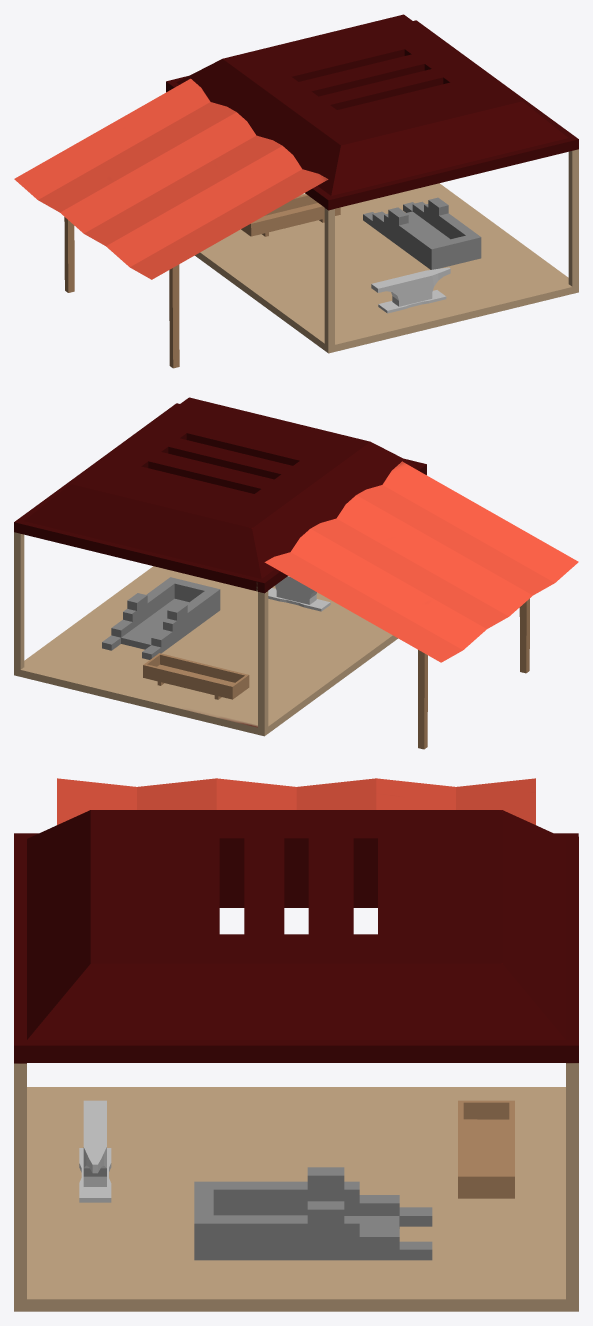
The model's file is blacksmith.fbx.
The picture shows the model from 3 angles, top to bottom: view 1: azimuth 30°, elevation 25°; view 2: azimuth 150°, elevation 25°; view 3: azimuth 270°, elevation 25°; orthographic projection. The views are drawn at different scales.
Visible parts, largest first — view 1: Cube, Plane, Forge, Anvil, Cube.003, heattreat; view 2: Cube, Plane, Forge, heattreat, Cube.003, Anvil; view 3: Cube, Forge, Plane, heattreat, Anvil.
Boxes of the visible parts, bbox=[...] form: Cube: bbox=[166, 14, 578, 353]; Plane: bbox=[14, 78, 328, 279]; Forge: bbox=[363, 197, 481, 269]; Anvil: bbox=[371, 267, 450, 313]; Cube.003: bbox=[64, 217, 179, 368]; heattreat: bbox=[241, 194, 340, 236]; Cube: bbox=[14, 397, 426, 736]; Plane: bbox=[264, 461, 578, 662]; Forge: bbox=[102, 577, 220, 659]; heattreat: bbox=[143, 653, 249, 699]; Cube.003: bbox=[418, 598, 529, 749]; Anvil: bbox=[268, 576, 330, 611]; Cube: bbox=[14, 810, 578, 1311]; Forge: bbox=[194, 1167, 432, 1260]; Plane: bbox=[57, 778, 535, 824]; heattreat: bbox=[458, 1100, 514, 1198]; Anvil: bbox=[79, 1100, 111, 1202].
Size of the model in its own units: 6817 by 2925 by 4630.
